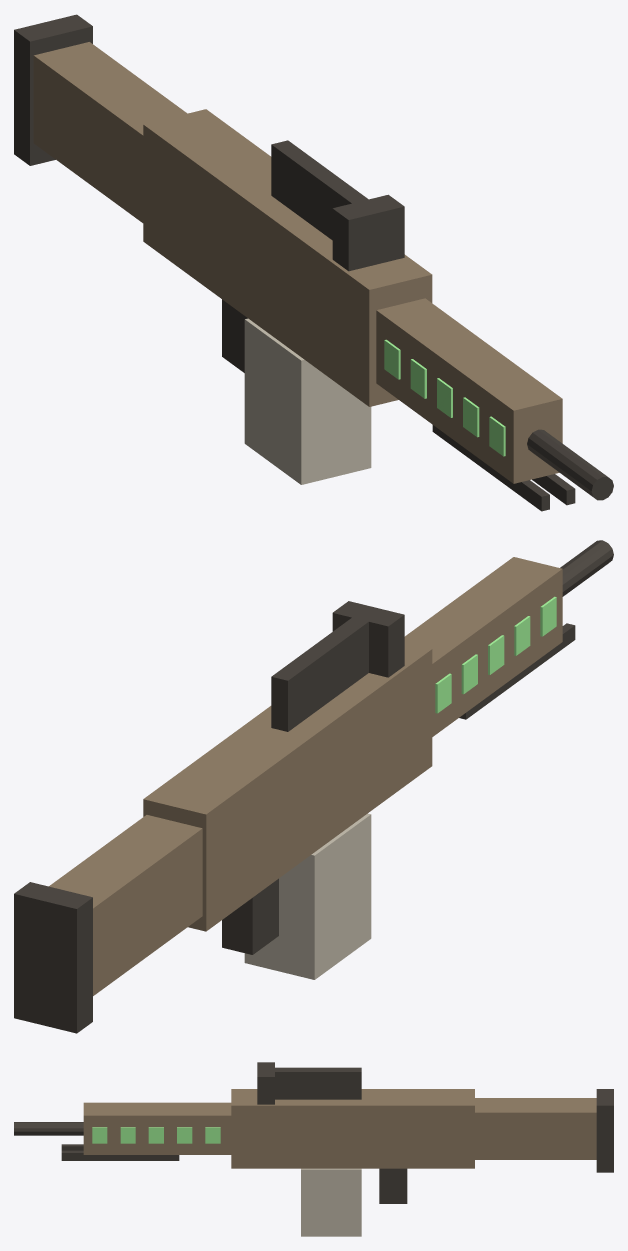
Rendered from weapon_P_LMG.glb.
The picture shows the model from 3 angles, top to bottom: view 1: azimuth 30°, elevation 25°; view 2: azimuth 150°, elevation 25°; view 3: azimuth 270°, elevation 25°; orthographic projection. The views are drawn at different scales.
Visible parts, largest first — view 1: Body, Mag; view 2: Body, Mag; view 3: Body, Mag.
Boxes of the visible parts, bbox=[...] form: Body: bbox=[14, 14, 613, 511]; Mag: bbox=[244, 318, 371, 484]; Body: bbox=[14, 540, 613, 1033]; Mag: bbox=[244, 813, 371, 979]; Body: bbox=[14, 1062, 613, 1203]; Mag: bbox=[301, 1168, 361, 1236].
Bounding box in the file's own units: 0.1 × 0.4 × 1.38.
